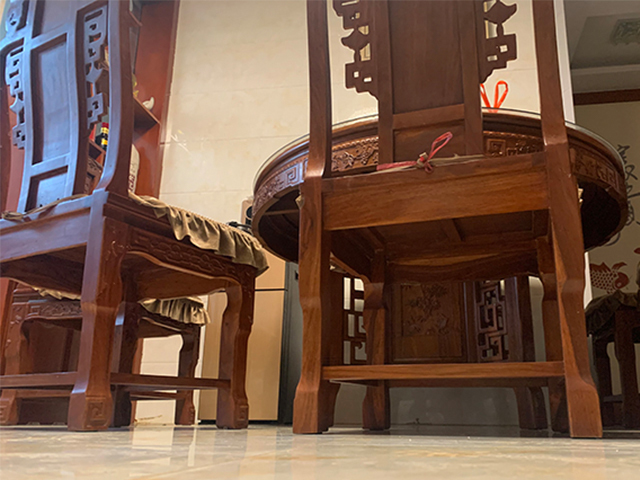stool: (292, 1, 603, 439), (1, 1, 270, 434), (1, 275, 210, 431)
table: (250, 105, 629, 432)
